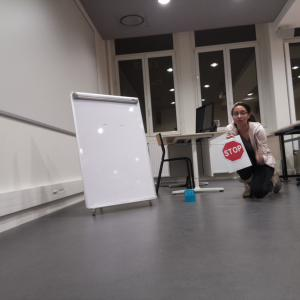stop: (222, 141, 244, 162)
